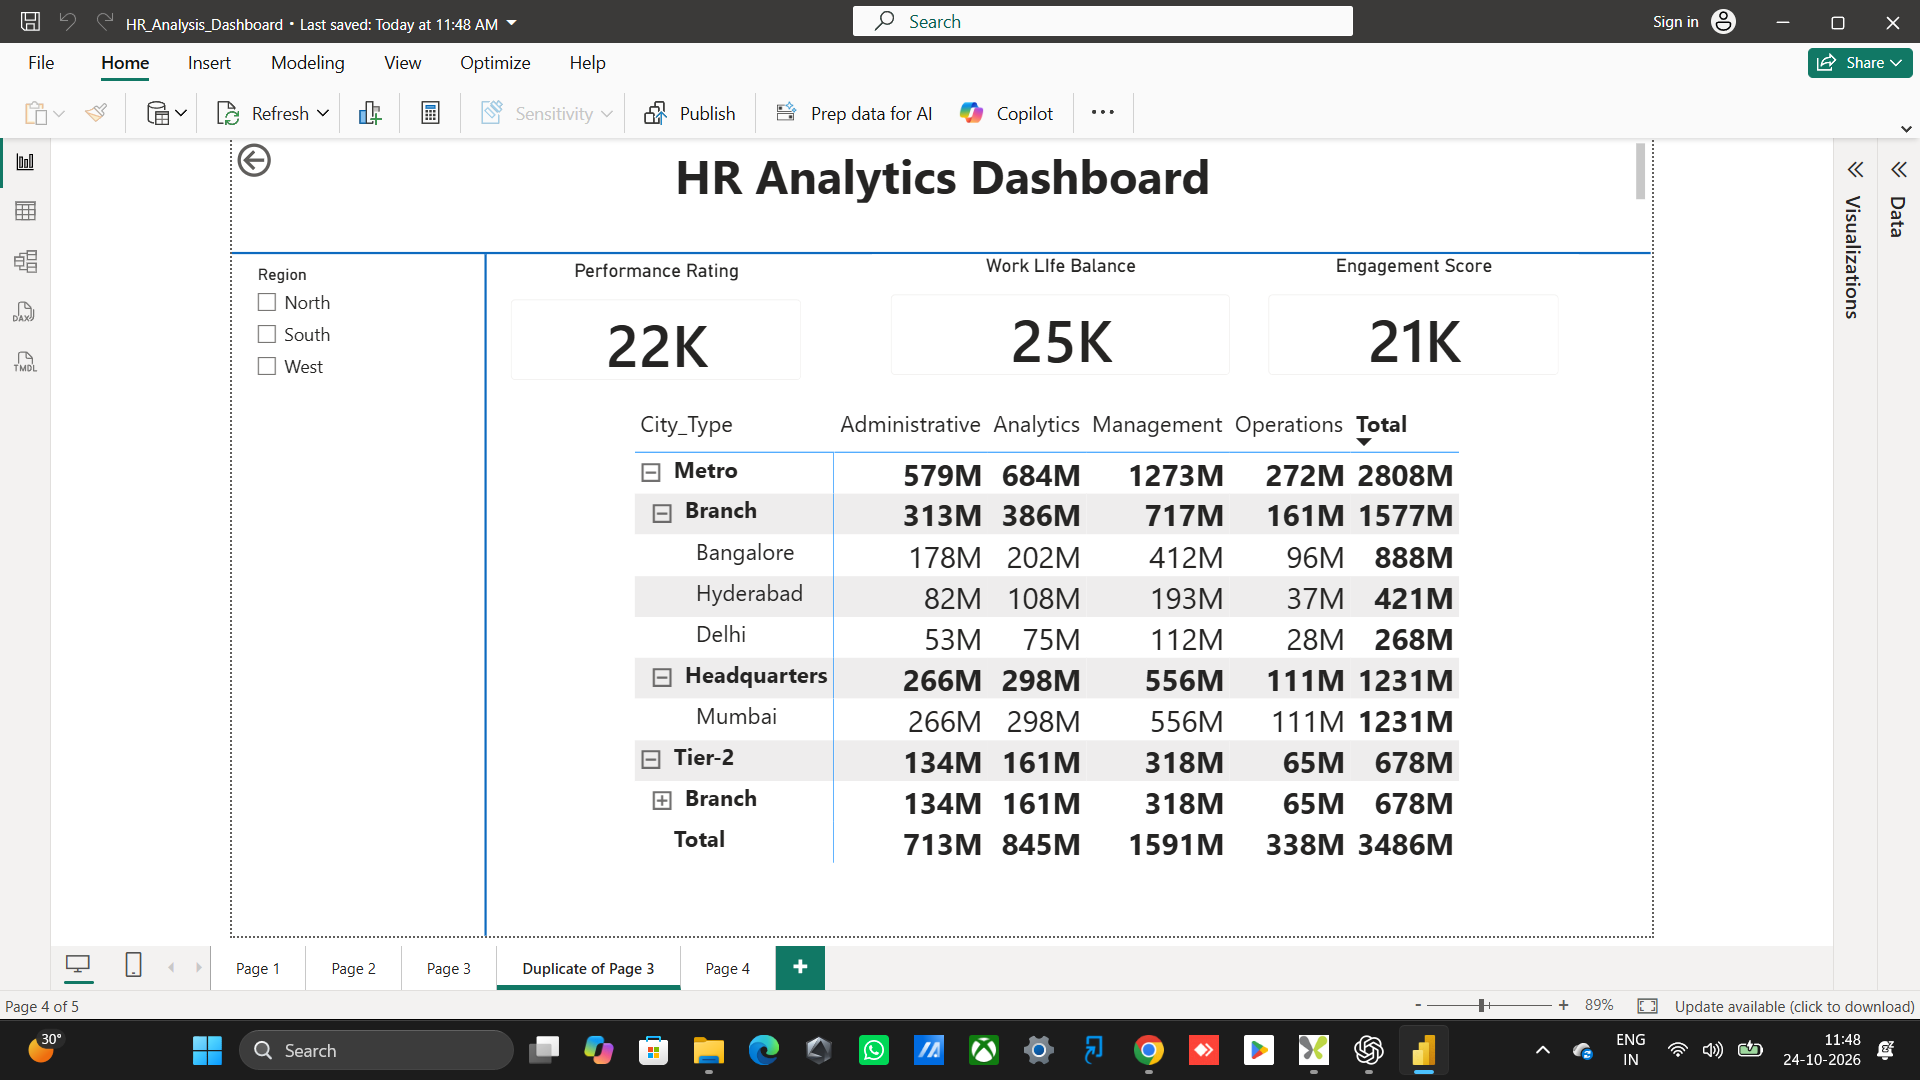

Layout of this report page (visuals, bound fields, positions):
{"tool":"powerbi","page":{"name":"Duplicate of Page 3","canvas":[1280,720],"ordinal":3},"visuals":[{"type":"textbox","box":[10.6,0,1268.9,63.6],"z":0},{"type":"shape","box":[0,105.2,457.3,614.8],"z":1000},{"type":"shape","box":[0,0,1279.5,207.4],"z":2000},{"type":"slicer","fields":{"Values":["Dim_Location.Region"]},"box":[10.6,109,205.9,195.3],"z":3000},{"type":"cardVisual","title":"Performance Rating","fields":{"Data":["Sum(HR_Fact.Performance_Rating)"]},"box":[234.7,109,296.8,127.2],"z":4000},{"type":"cardVisual","title":"Work LIfe Balance","fields":{"Data":["Sum(HR_Fact.Work_Life_Balance)"]},"box":[576.9,104.5,340.7,127.2],"z":5000},{"type":"cardVisual","title":"Engagement Score","fields":{"Data":["Sum(HR_Fact.Engagement_Score)"]},"box":[917.6,104.5,296.8,127.2],"z":6000},{"type":"actionButton","box":[0,0,100,40],"z":7000},{"type":"pivotTable","fields":{"Rows":["Dim_Location.City_Type","Dim_Location.Office_Type","Dim_Location.Location_Name"],"Columns":["Dim_JobRole.Job_Family"],"Values":["Sum(HR_Fact.Salary)"]},"box":[358.9,236.2,778.3,428.5],"z":8000}]}

Visuals, with their boxes on the page's 1280x720 design canvas (x1, y1, x2, y2). These are canvas units, not pixel positions in the 1920x1080 screenshot, which may show the page scaled, cropped or inside an application window:
textbox: Rect(11, 0, 1280, 64)
shape: Rect(0, 105, 457, 720)
shape: Rect(0, 0, 1280, 207)
slicer - Dim_Location.Region: Rect(11, 109, 216, 304)
"Performance Rating" cardVisual: Rect(235, 109, 532, 236)
"Work LIfe Balance" cardVisual: Rect(577, 104, 918, 232)
"Engagement Score" cardVisual: Rect(918, 104, 1214, 232)
actionButton: Rect(0, 0, 100, 40)
pivotTable - Dim_Location.City_Type x Dim_Location.Office_Type: Rect(359, 236, 1137, 665)
